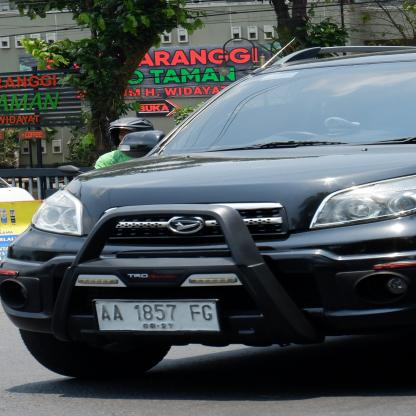Plat-Nomor: (86, 294, 229, 337)
